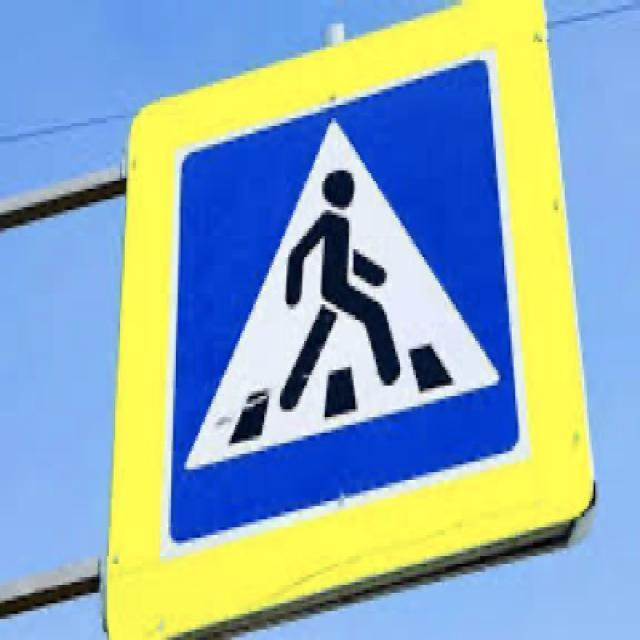crosswalk_sign: (158, 45, 530, 557)
